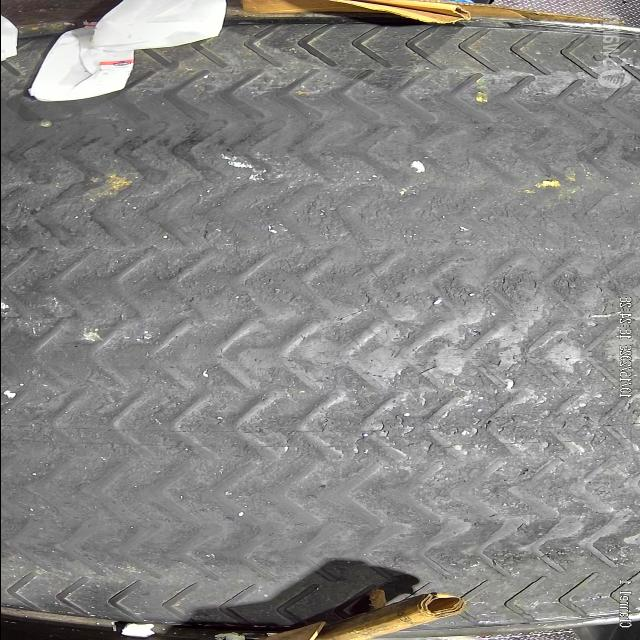milk_jug: (27, 21, 132, 102), (90, 0, 226, 51)
